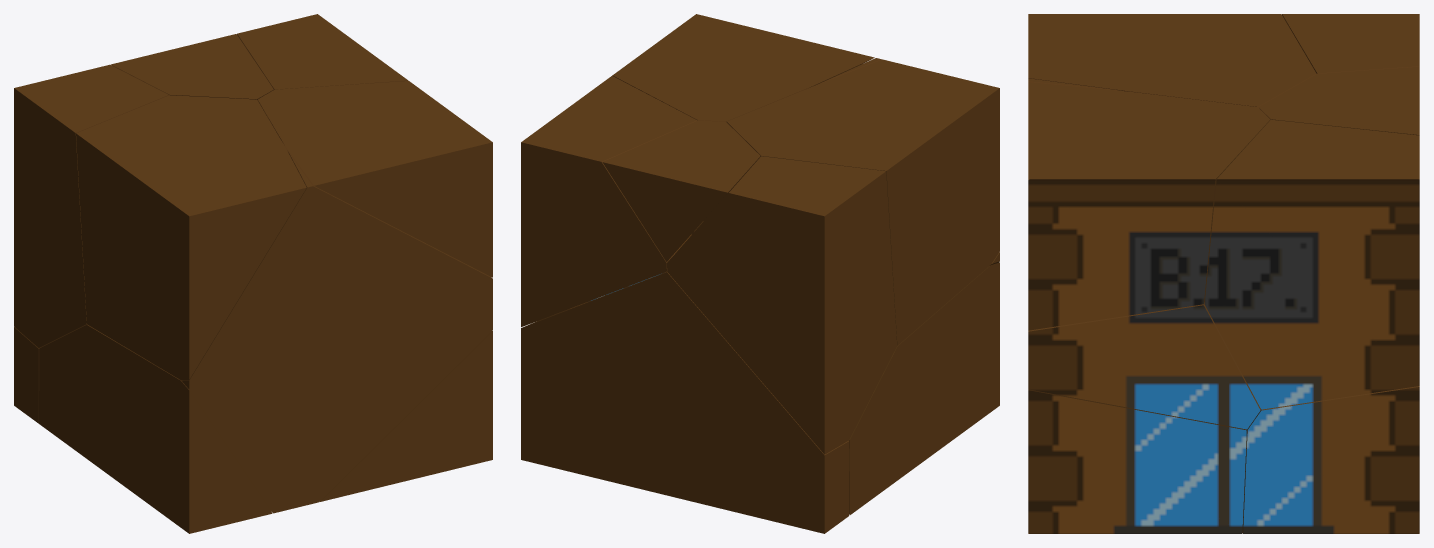
The model's file is BrickBuildingBrown_2_128x128_Ground03_break.fbx.
3 renders of one model, left to right at view 1: azimuth 30°, elevation 25°; view 2: azimuth 150°, elevation 25°; view 3: azimuth 270°, elevation 25°, orthographic. The views are drawn at different scales.
Visible parts, largest first — view 1: Ground03Break02, Ground03Break03, Ground03Break04, Ground03Break05, Ground03Break06, Ground03Break01, Ground03Break09, Ground03Break07, Ground03Break08; view 2: Ground03Break08, Ground03Break06, Ground03Break03, Ground03Break09, Ground03Break05, Ground03Break04, Ground03Break07; view 3: Ground03Break09, Ground03Break04, Ground03Break01, Ground03Break08, Ground03Break03, Ground03Break02, Ground03Break07, Ground03Break06.
Part boxes in pixels (bbox=[...]): Ground03Break02: bbox=[179, 142, 492, 513]; Ground03Break03: bbox=[76, 95, 306, 379]; Ground03Break04: bbox=[257, 81, 492, 277]; Ground03Break05: bbox=[39, 324, 272, 533]; Ground03Break06: bbox=[14, 64, 168, 347]; Ground03Break01: bbox=[320, 331, 492, 501]; Ground03Break09: bbox=[237, 14, 408, 89]; Ground03Break07: bbox=[111, 34, 273, 99]; Ground03Break08: bbox=[14, 327, 40, 423]; Ground03Break08: bbox=[521, 272, 849, 533]; Ground03Break06: bbox=[667, 156, 897, 454]; Ground03Break03: bbox=[726, 59, 999, 345]; Ground03Break09: bbox=[521, 76, 697, 327]; Ground03Break05: bbox=[849, 262, 999, 515]; Ground03Break04: bbox=[612, 14, 874, 121]; Ground03Break07: bbox=[602, 120, 760, 261]; Ground03Break09: bbox=[1204, 119, 1419, 409]; Ground03Break04: bbox=[1028, 82, 1270, 330]; Ground03Break01: bbox=[1028, 390, 1246, 533]; Ground03Break08: bbox=[1242, 386, 1419, 533]; Ground03Break03: bbox=[1028, 14, 1316, 108]; Ground03Break02: bbox=[1028, 78, 1260, 429]; Ground03Break07: bbox=[1258, 66, 1419, 135]; Ground03Break06: bbox=[1282, 14, 1419, 73].
Bounding box in the file's own units: 100 × 100 × 100.
1 material, 1 textured.
